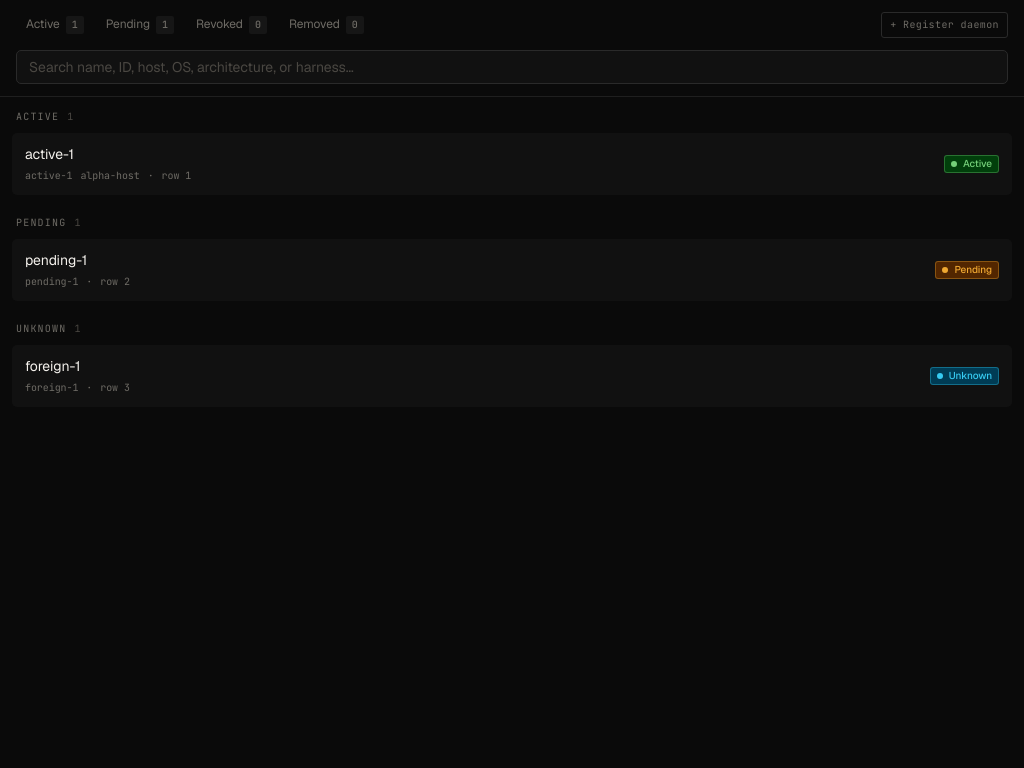
Scenario: DaemonsPage › re-issues a token from the inspector and opens the enrollment step
Click the button with test id "daemon-row-active-1": (49,154) [12,133,1012,195]
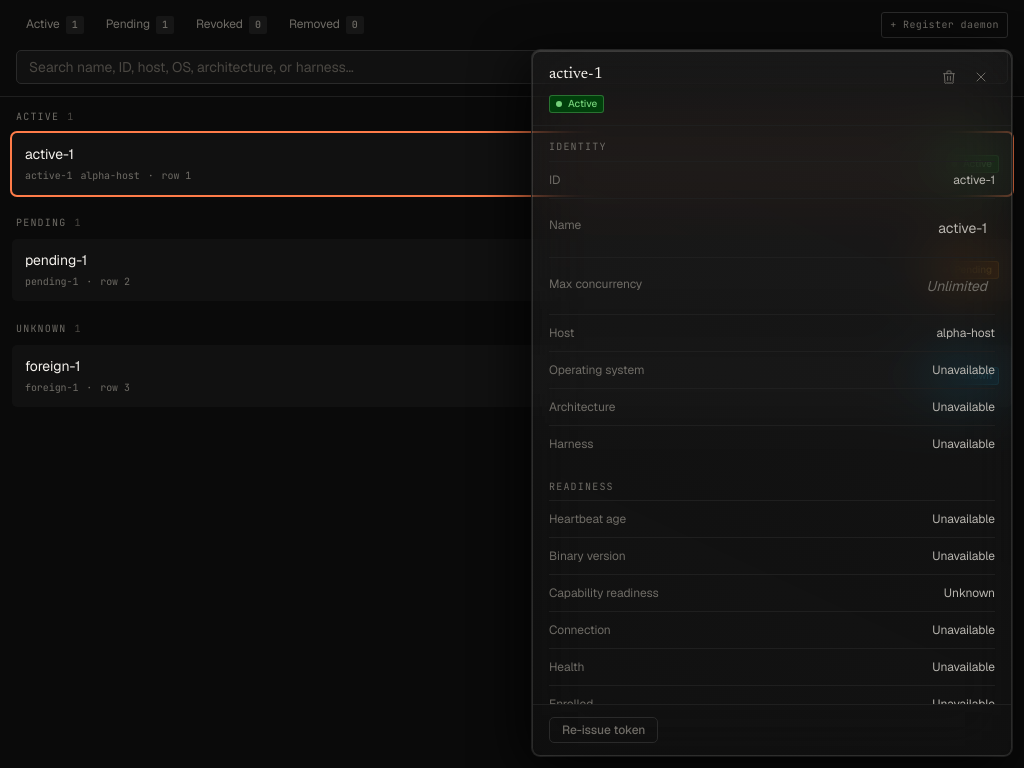
Click the button with test id "daemon-inspector-reissue": (604,730) [549,717,658,743]
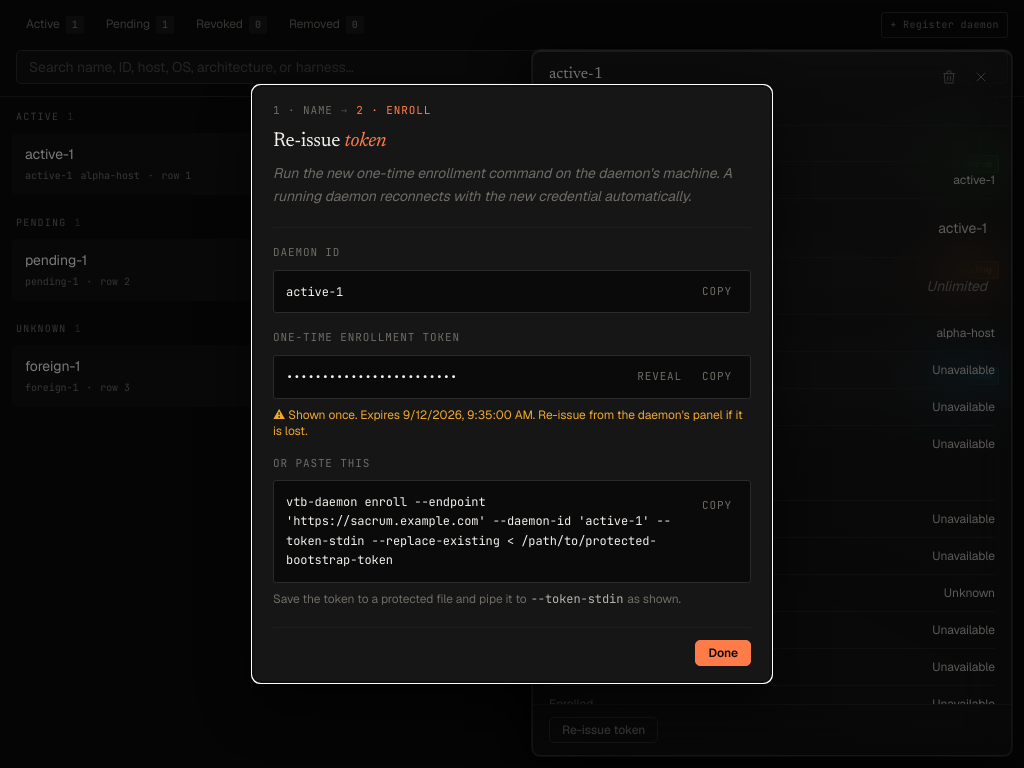
Expected: the element with test id "daemon-enrollment-token-step" is shown, [273,102,751,666]
Click the button "Reveal": (660,377) [631,364,688,390]
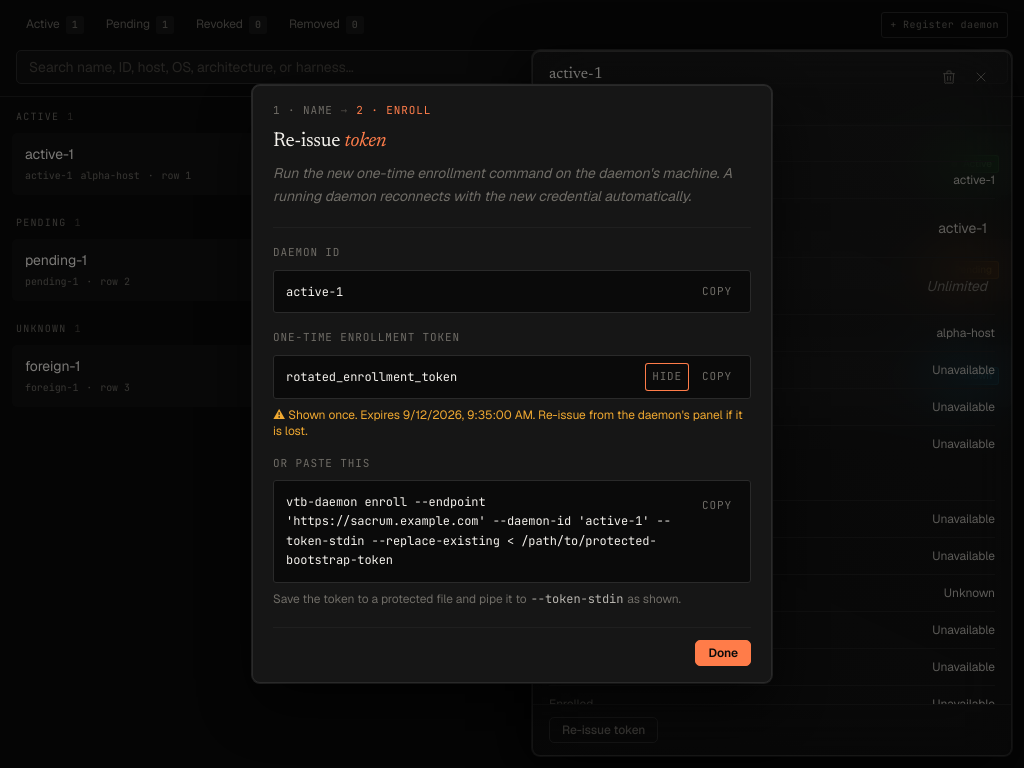
Expected: the text "rotated_enrollment_token" is shown, [286,369,457,385]
